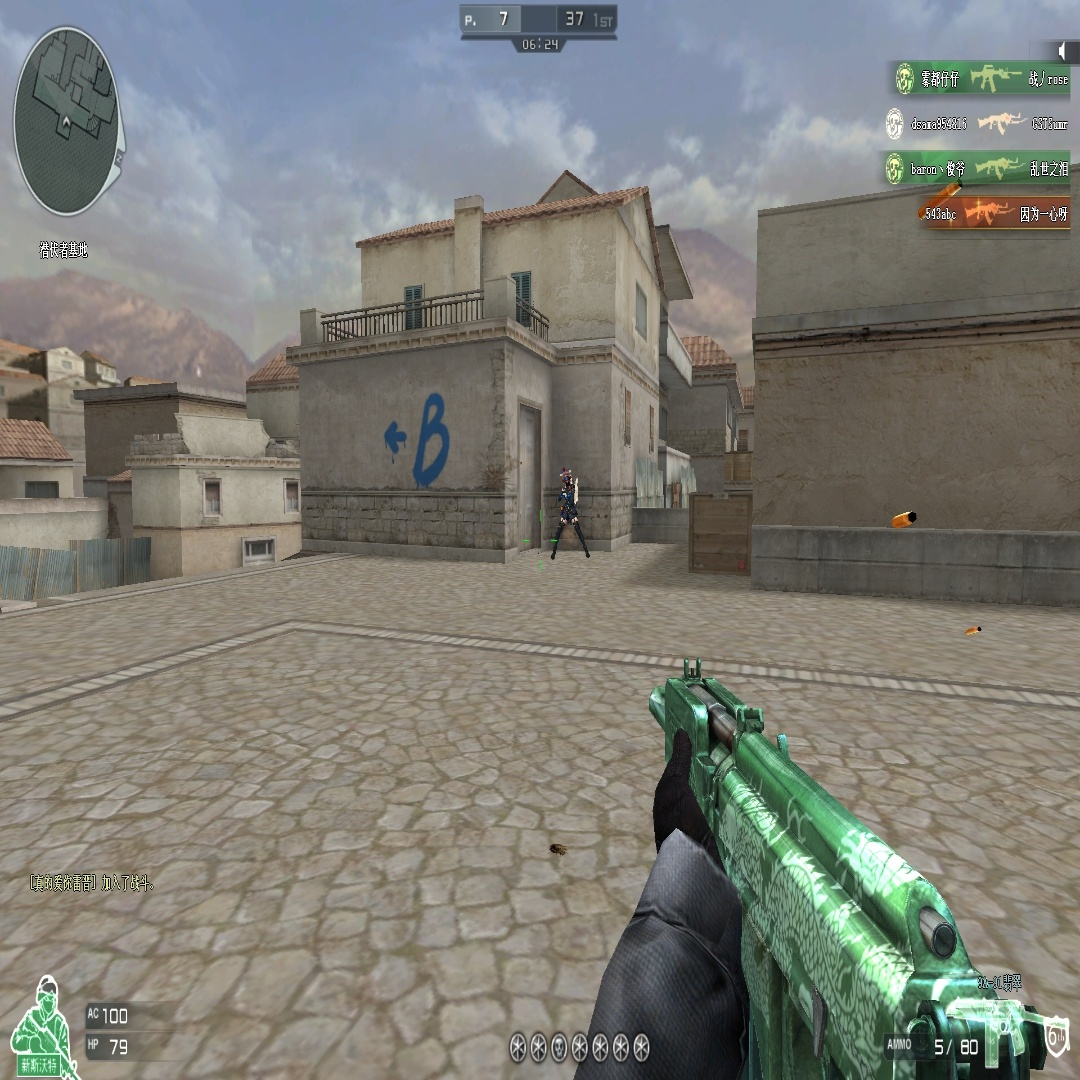p: (551, 468, 591, 562)
